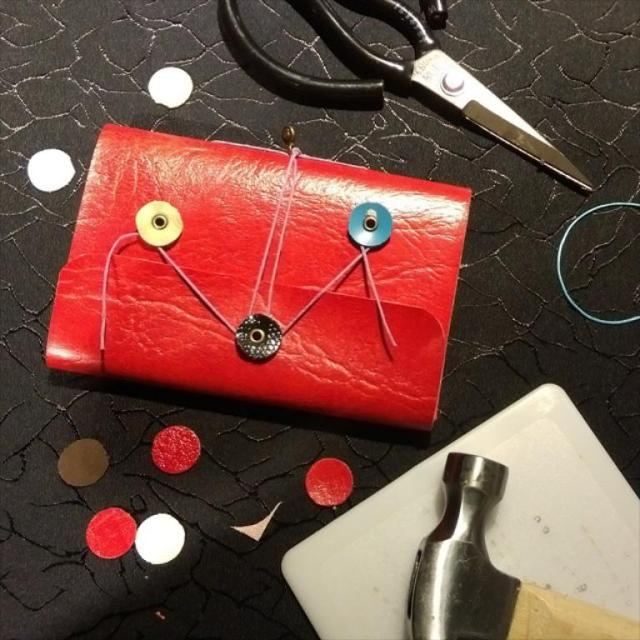scissors: (216, 0, 595, 192)
